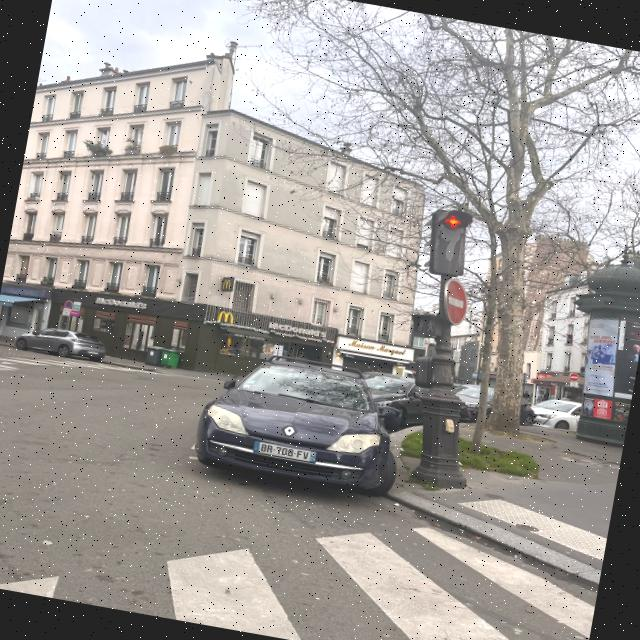EU: (252, 438, 319, 462)
France: (252, 438, 262, 452)
